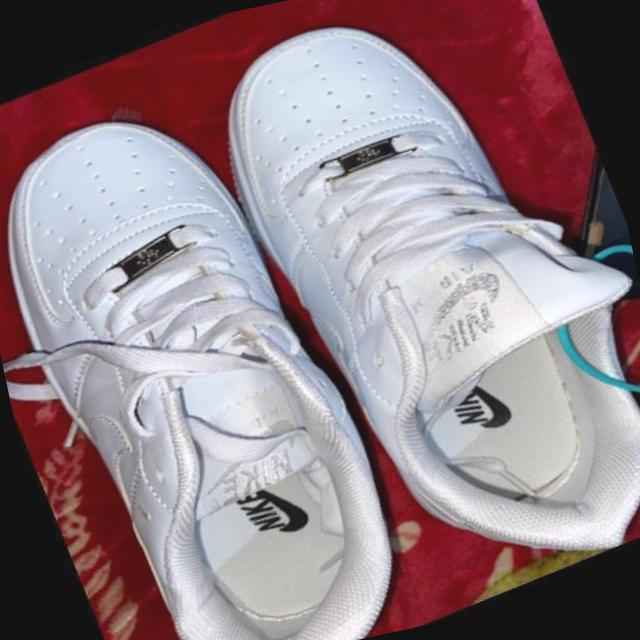nike_fake_airforce: (165, 0, 640, 640), (0, 36, 441, 640)
